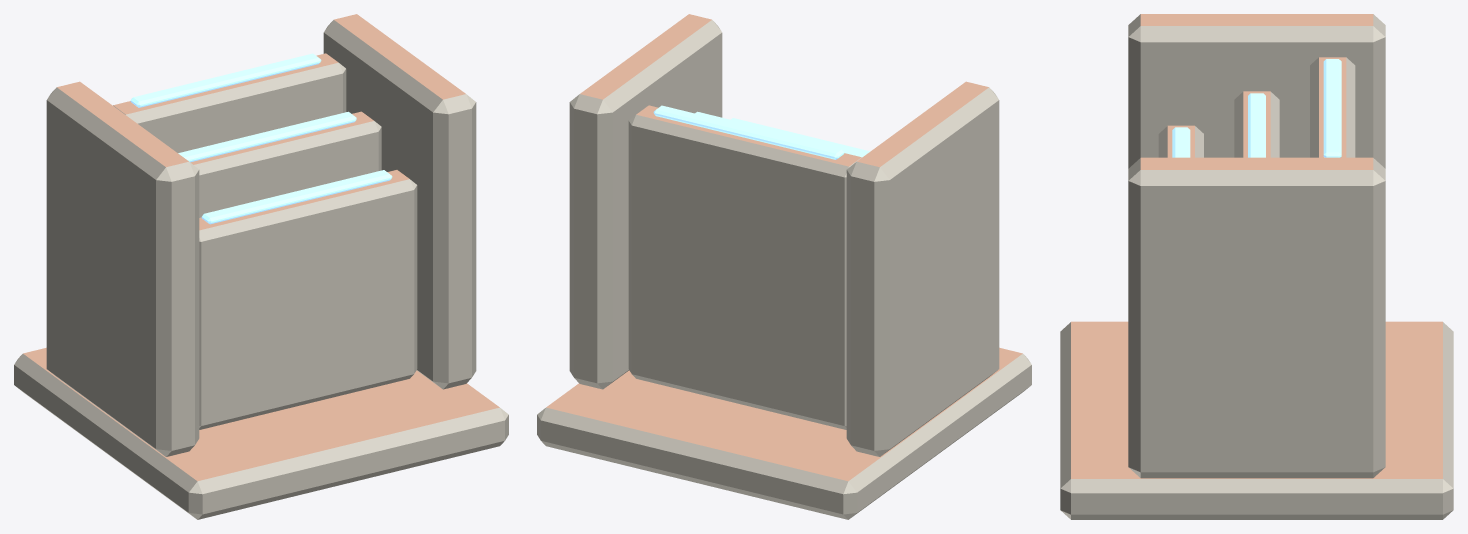
The model's file is R4X_WallDeployer_LOD1.fbx.
The picture shows the model from 3 angles, left to right: view 1: azimuth 30°, elevation 25°; view 2: azimuth 150°, elevation 25°; view 3: azimuth 270°, elevation 25°; orthographic projection. The views are drawn at different scales.
Parts seen in each view (by area): view 1: R4X_WallDeployer_LOD1; view 2: R4X_WallDeployer_LOD1; view 3: R4X_WallDeployer_LOD1.
Boxes of the visible parts, <box> form: R4X_WallDeployer_LOD1: <box>14,14,508,519</box>; R4X_WallDeployer_LOD1: <box>537,14,1031,519</box>; R4X_WallDeployer_LOD1: <box>1060,14,1453,519</box>.
Size of the model in its own units: 0.52 by 0.51 by 0.52.
